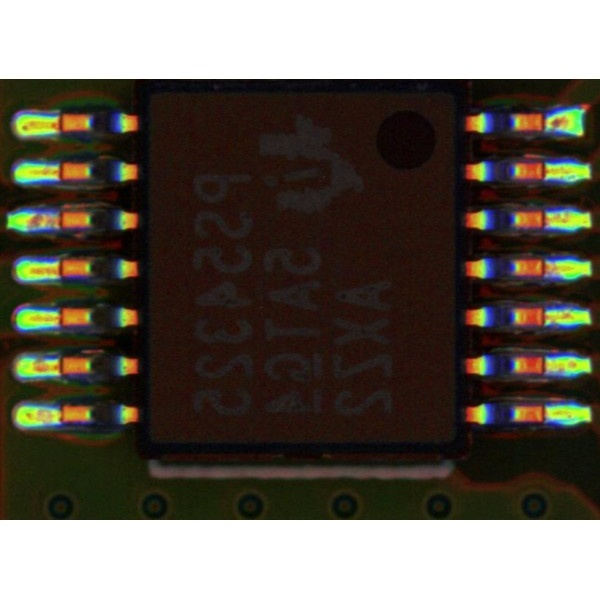Bad_podu: (42, 360, 78, 373), (39, 264, 76, 276), (39, 312, 78, 323), (42, 213, 77, 225), (41, 166, 81, 176), (531, 213, 561, 226), (43, 119, 79, 129), (531, 261, 561, 273), (531, 165, 559, 177), (531, 311, 561, 322)
